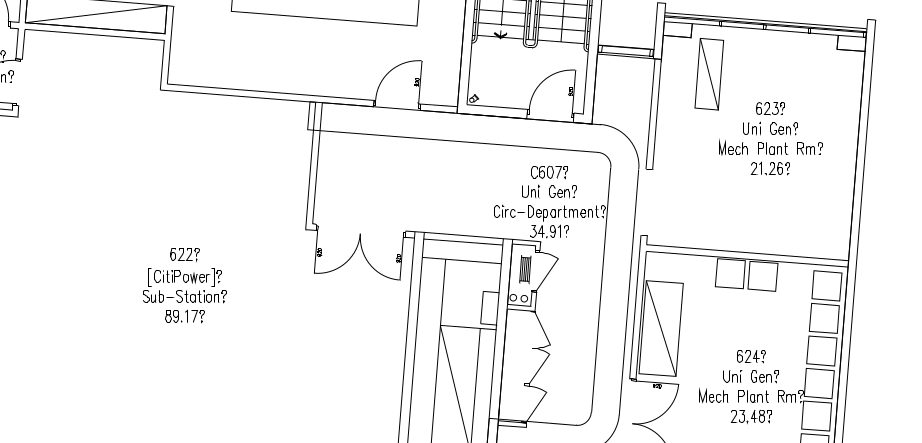door: (310, 228, 406, 288), (371, 49, 428, 109), (522, 59, 579, 119), (632, 380, 684, 425)
